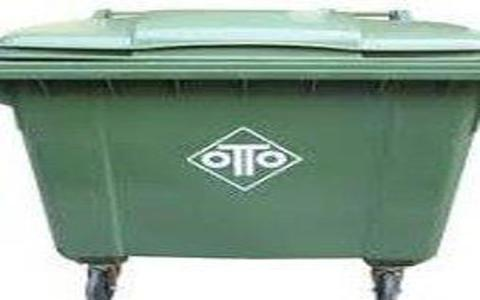Proper garbage: (6, 1, 476, 295)
